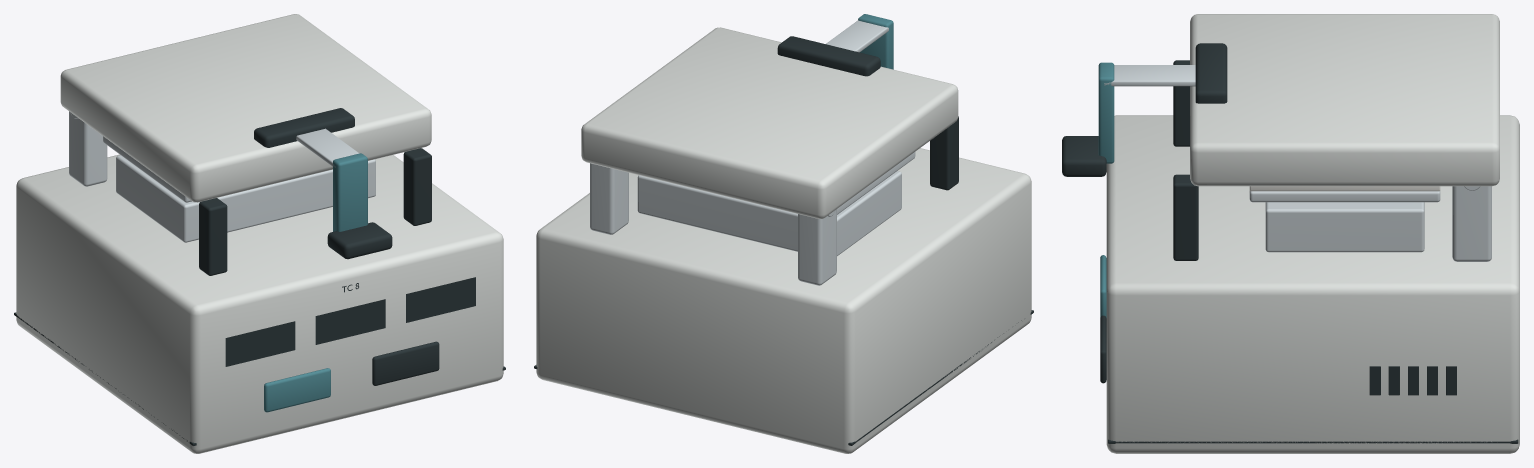
File: preview.glb
The picture shows the model from 3 angles, left to right: view 1: azimuth 30°, elevation 25°; view 2: azimuth 150°, elevation 25°; view 3: azimuth 270°, elevation 25°; orthographic projection. The views are drawn at different scales.
Visible parts, largest first — view 1: Enamel enclosure, Thermal cover shell, Hinge tower, Cover stop, Latch strap, Live LCD surface, Live LCD surface.001, Live LCD surface.002, Program key.001, Program key, Cover handle, Latch grip (+2 smaller); view 2: Enamel enclosure, Thermal cover shell, Hinge tower, Cover handle, Cover stop, Latch catch, Latch strap, Heated underside plate; view 3: Enamel enclosure, Thermal cover shell, Hinge tower, Cover stop, Heated underside plate, Cover handle, Latch catch, Latch grip, Latch strap, Thermal insulation backing, Program key.001.
Boxes of the visible parts, x1,y1,x2,y2 form: Enamel enclosure: [16, 154, 503, 453]; Thermal cover shell: [60, 14, 431, 202]; Hinge tower: [69, 111, 375, 242]; Cover stop: [14, 148, 505, 445]; Latch strap: [333, 153, 367, 231]; Live LCD surface: [225, 321, 295, 366]; Live LCD surface.001: [315, 299, 385, 344]; Live LCD surface.002: [406, 277, 475, 322]; Program key.001: [372, 341, 439, 385]; Program key: [264, 368, 330, 412]; Cover handle: [254, 108, 354, 147]; Latch grip: [327, 222, 392, 259]; Enamel enclosure: [536, 148, 1031, 453]; Thermal cover shell: [581, 27, 958, 218]; Hinge tower: [590, 163, 901, 285]; Cover handle: [777, 36, 880, 76]; Cover stop: [534, 116, 1033, 445]; Latch catch: [825, 20, 888, 52]; Latch strap: [858, 14, 893, 69]; Heated underside plate: [827, 152, 915, 216]; Enamel enclosure: [1106, 115, 1519, 453]; Thermal cover shell: [1190, 14, 1499, 186]; Hinge tower: [1265, 186, 1491, 261]; Cover stop: [1108, 60, 1518, 443]; Heated underside plate: [1249, 186, 1480, 202]; Cover handle: [1195, 43, 1227, 103]; Latch catch: [1104, 65, 1195, 86]; Latch grip: [1062, 136, 1106, 176]; Latch strap: [1098, 62, 1114, 163]; Thermal insulation backing: [1249, 186, 1440, 191]; Program key.001: [1100, 315, 1106, 383].
Bounding box in the file's own units: 0.2604 × 0.222 × 0.288.
